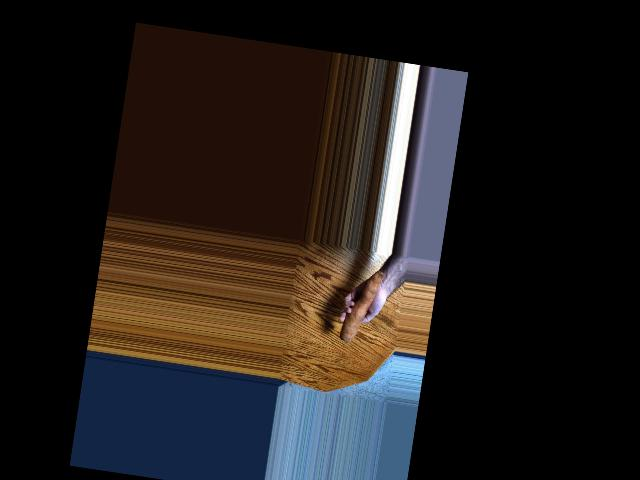sweet_potato: (337, 268, 384, 347)
